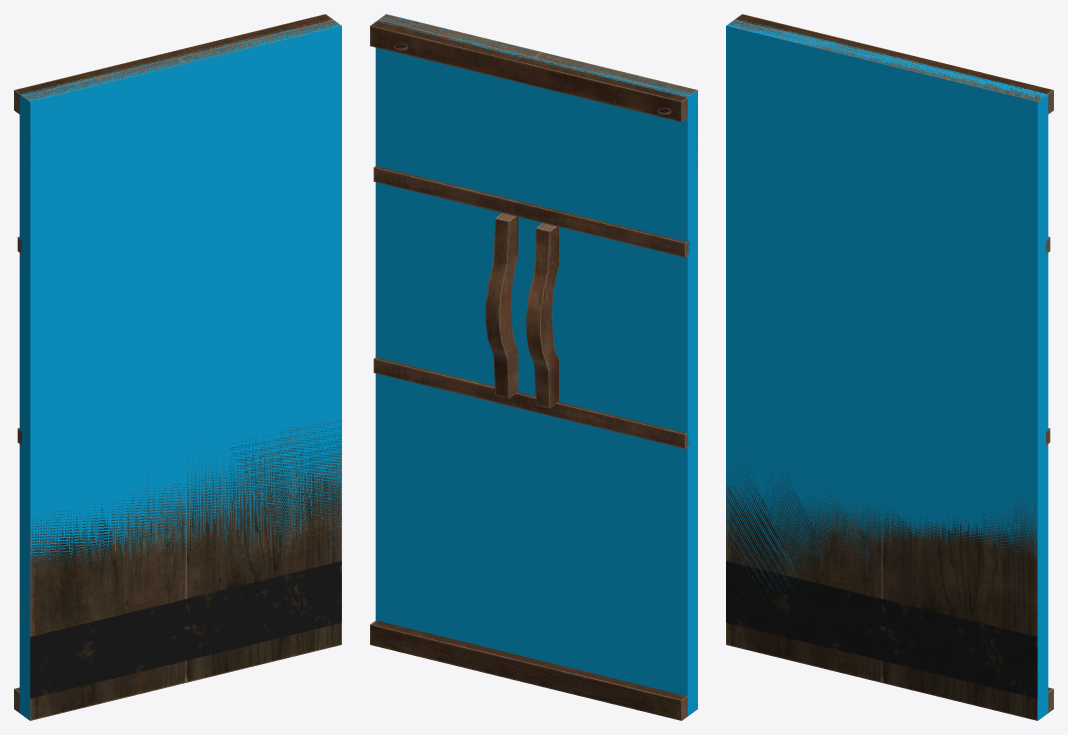
The model's file is JWC_Shield_Tate_A_Plank_01.fbx.
3 renders of one model, left to right at view 1: azimuth 30°, elevation 25°; view 2: azimuth 150°, elevation 25°; view 3: azimuth 330°, elevation 25°, orthographic.
Parts seen in each view (by area): view 1: C_JWC_Shield_Tate_A_Plank_01, JWC_Shield_Tate_A_Plank_01; view 2: C_JWC_Shield_Tate_A_Plank_01, JWC_Shield_Tate_A_Plank_01; view 3: C_JWC_Shield_Tate_A_Plank_01, JWC_Shield_Tate_A_Plank_01.
Boxes of the visible parts, bbox=[...] form: C_JWC_Shield_Tate_A_Plank_01: bbox=[19, 19, 341, 720]; JWC_Shield_Tate_A_Plank_01: bbox=[14, 14, 341, 720]; C_JWC_Shield_Tate_A_Plank_01: bbox=[375, 14, 697, 716]; JWC_Shield_Tate_A_Plank_01: bbox=[370, 14, 697, 720]; C_JWC_Shield_Tate_A_Plank_01: bbox=[726, 20, 1048, 720]; JWC_Shield_Tate_A_Plank_01: bbox=[726, 14, 1053, 720].
Size of the model in its own units: 0.7905 by 1.5 by 0.1284.
